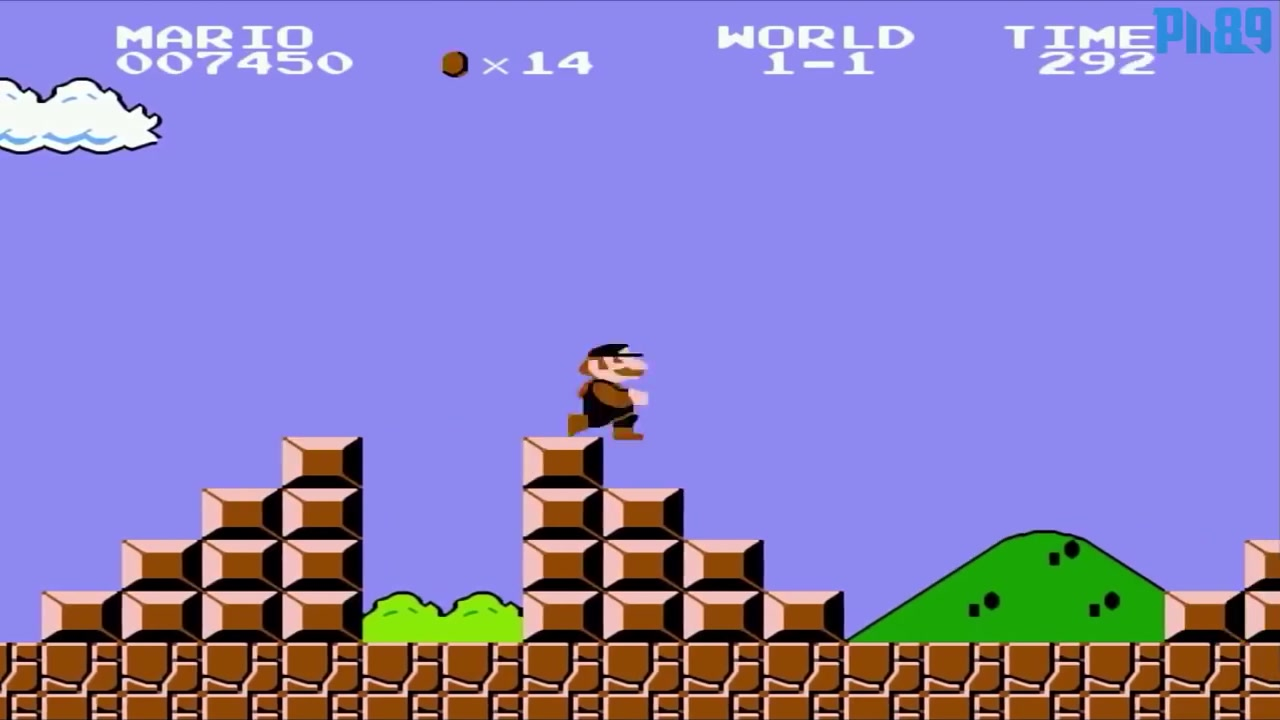mario: (561, 336, 658, 449)
